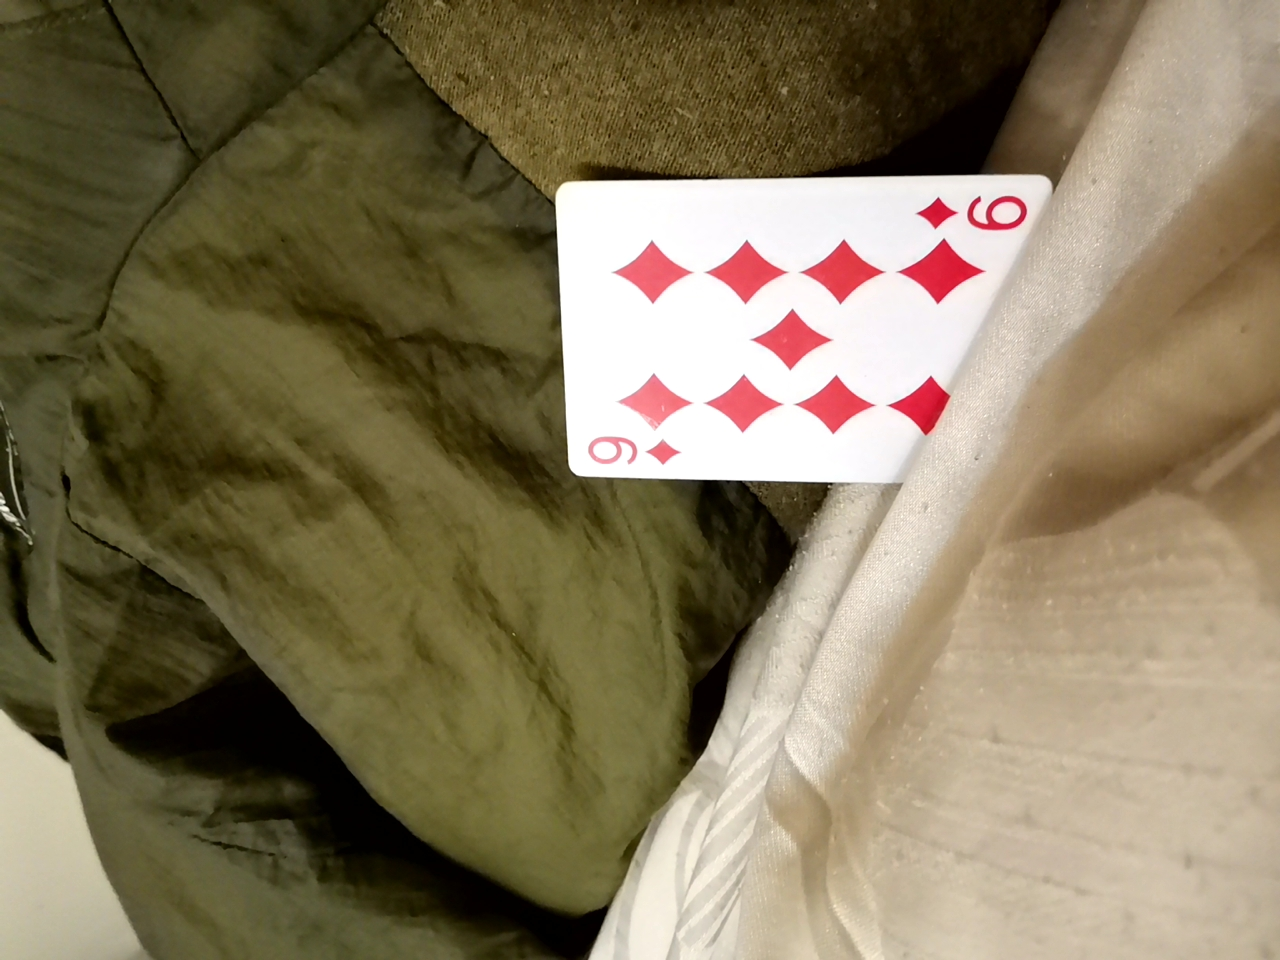fk 9: (540, 165, 1043, 482)
